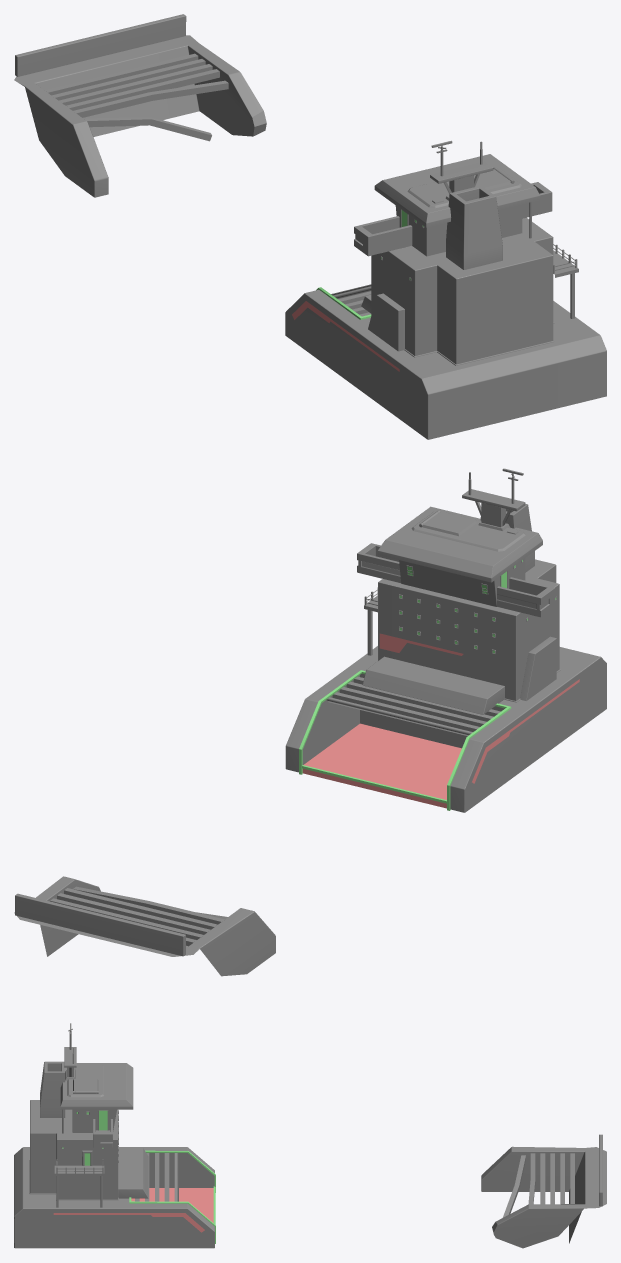
The model's file is S_Envi_Olgk_Freighter_01e.gltf.
3 views of the same model, one above another, from view 1: azimuth 30°, elevation 25°; view 2: azimuth 150°, elevation 25°; view 3: azimuth 270°, elevation 25° (orthographic). The views are drawn at different scales.
Visible parts, largest first — view 1: S_Envi_Olgk_Freighter_01e; view 2: S_Envi_Olgk_Freighter_01e; view 3: S_Envi_Olgk_Freighter_01e.
Part boxes in pixels (bbox=[...]): S_Envi_Olgk_Freighter_01e: bbox=[14, 14, 606, 439]; S_Envi_Olgk_Freighter_01e: bbox=[14, 468, 606, 976]; S_Envi_Olgk_Freighter_01e: bbox=[14, 1023, 606, 1248].
Bounding box in the file's own units: 41.07 × 54.21 × 163.
